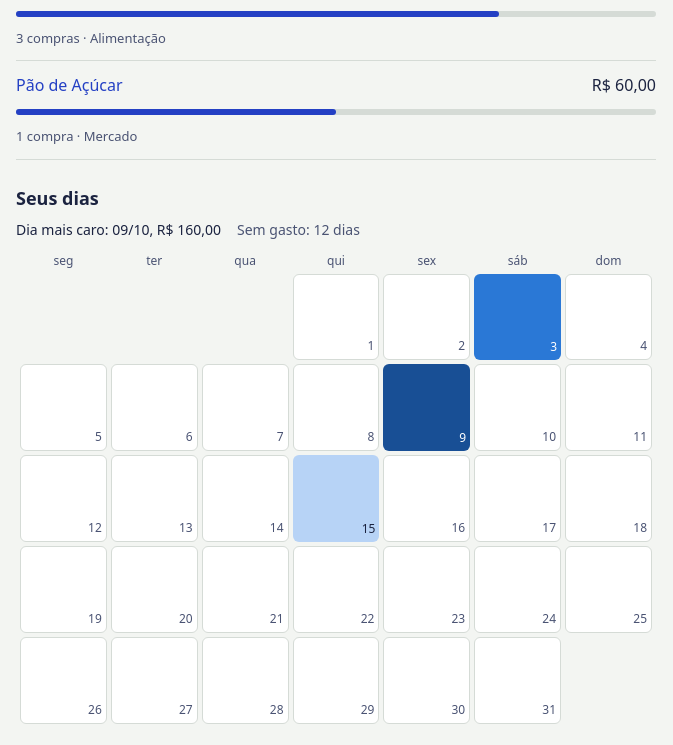
it: tapping a day lists its spending
(page scrolled)
Click the button named "09/10: R$ 160,00" at (427, 408), box [383,364,470,451]
(page scrolled)
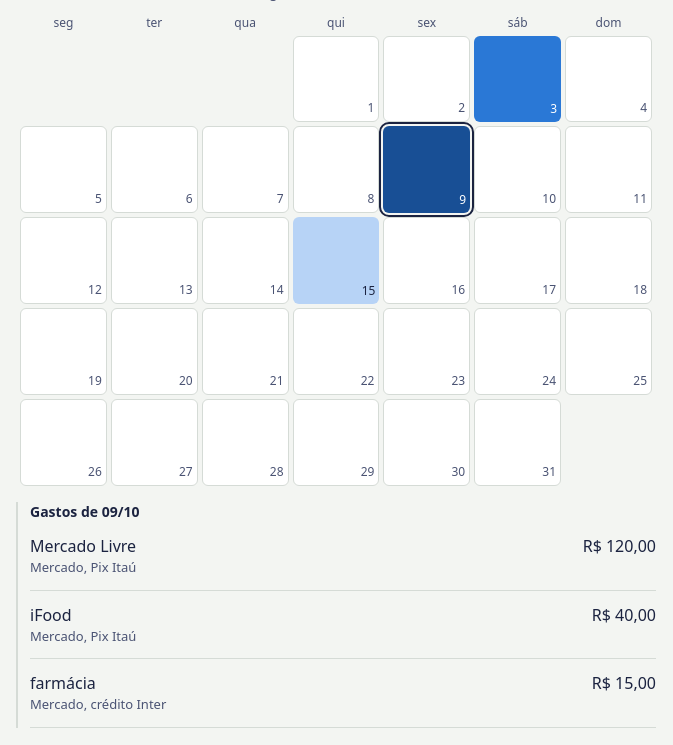
Now the text "Mercado Livre" is shown, box [30,534,136,558]
Now the text "R$ 120,00" is shown, box [583,534,656,558]
Now the text "Mercado, Pix Itaú" is shown 2 times, box [30,558,136,578]; [30,627,136,646]
